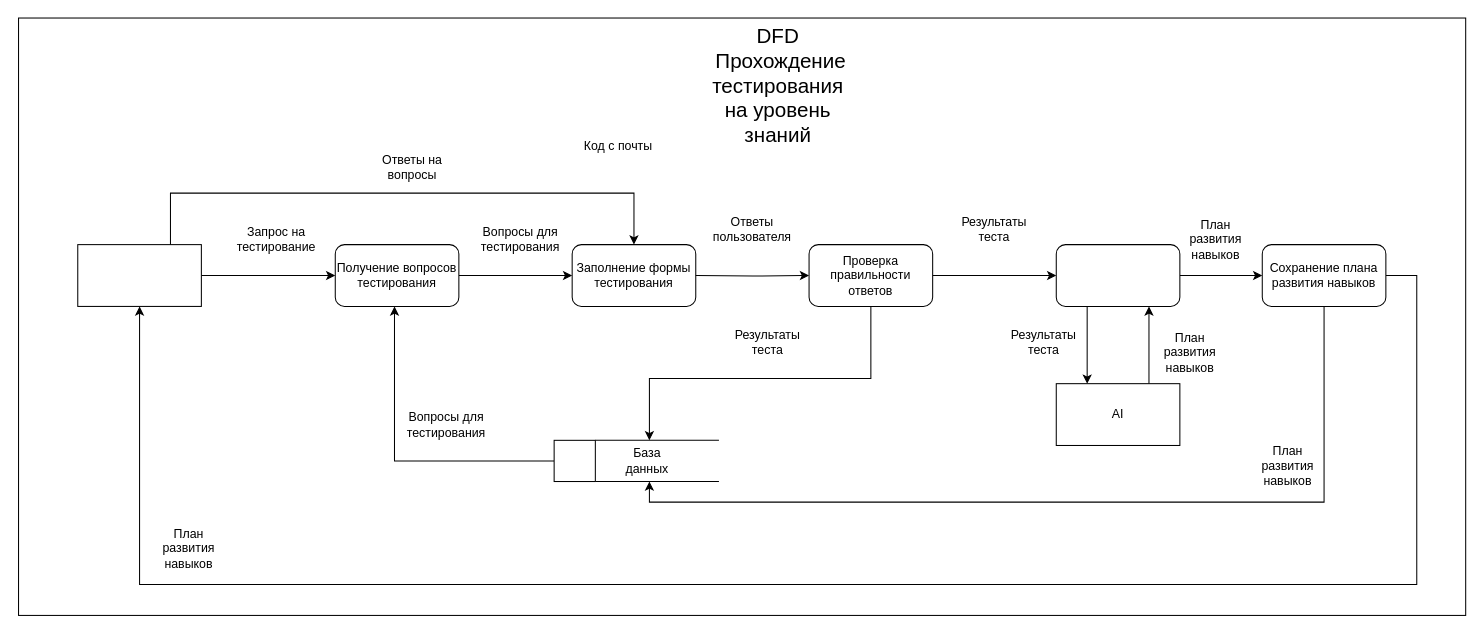
Image size: 1483x633. Some labels were removed from this diagram. The shapes that lost their labels are listed below. From the top down, each one's centre as x and y in pixels, then its label:
At (x=139, y=275): "Пользователь".
At (x=1117, y=275): "Формирование плана развития навыков".
